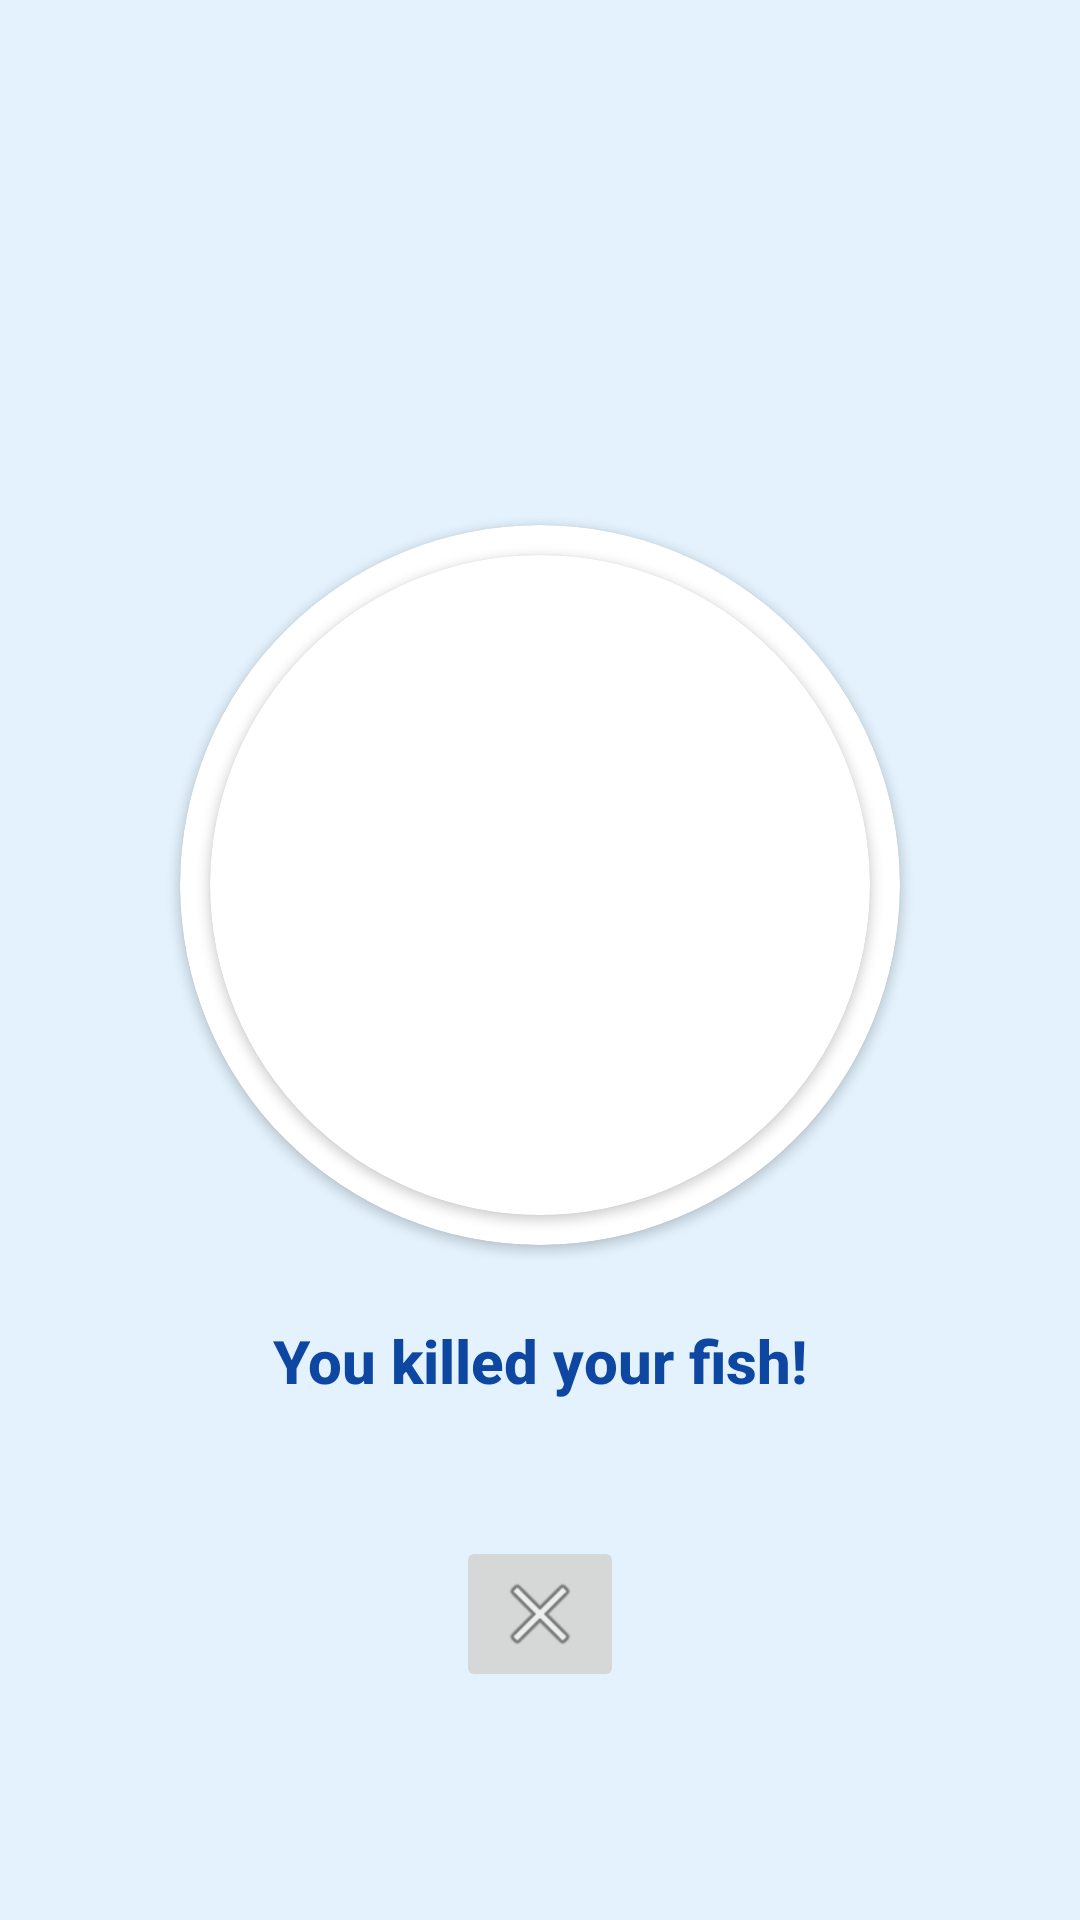

Point at icon controls on the screen. Image size 1080w x 1920h, points as point (x, y).
close clear cancel: point (540, 1614)
